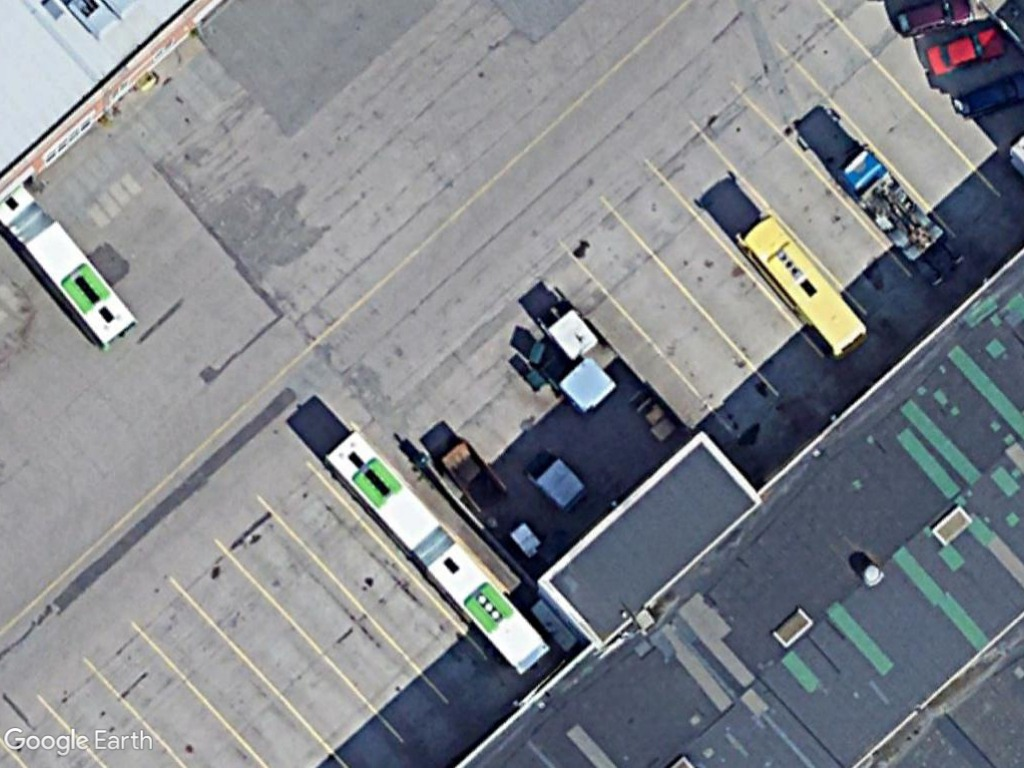bus: (322, 426, 556, 678), (731, 212, 868, 358), (15, 219, 145, 354)
car: (922, 23, 1012, 81)
